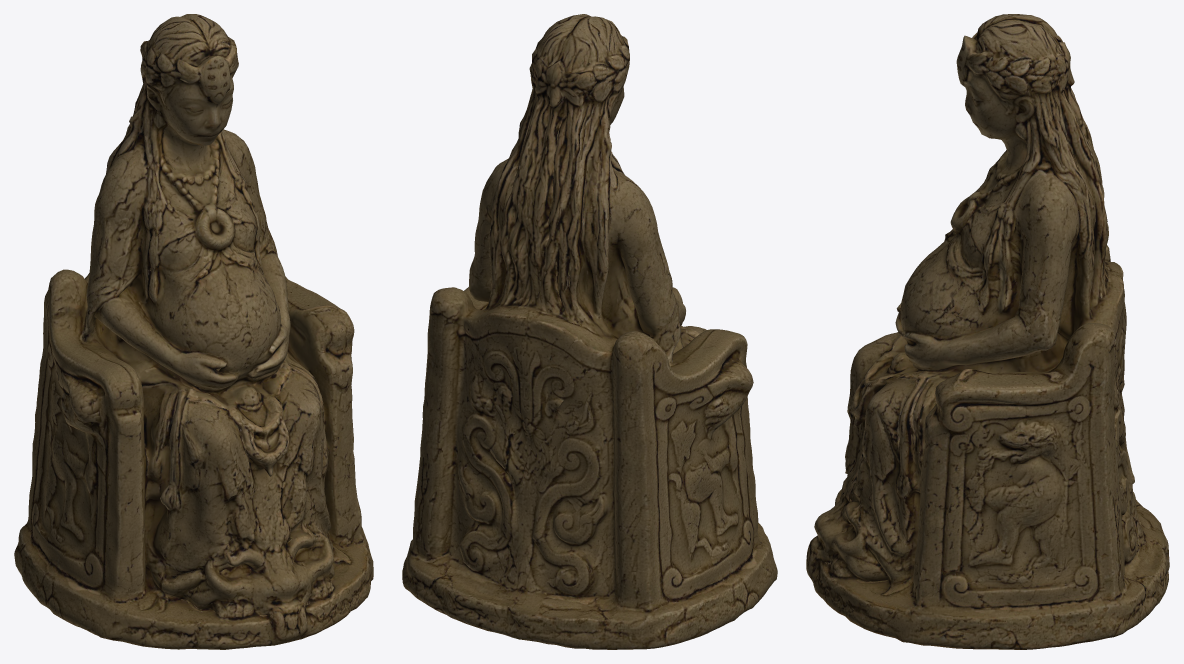
The model's file is pregnant_goddess_statue_3d_model.fbx.
The picture shows the model from 3 angles, left to right: view 1: azimuth 30°, elevation 25°; view 2: azimuth 150°, elevation 25°; view 3: azimuth 270°, elevation 25°; orthographic projection. The views are drawn at different scales.
Parts seen in each view (by area): view 1: tripo_node_16387d8f; view 2: tripo_node_16387d8f; view 3: tripo_node_16387d8f.
Part boxes in pixels (box(x1,y1,x2,y2)): tripo_node_16387d8f: box(14, 14, 373, 649); tripo_node_16387d8f: box(402, 14, 777, 649); tripo_node_16387d8f: box(806, 14, 1169, 649).
Size of the model in its own units: 0.5578 by 0.9773 by 0.5715.
